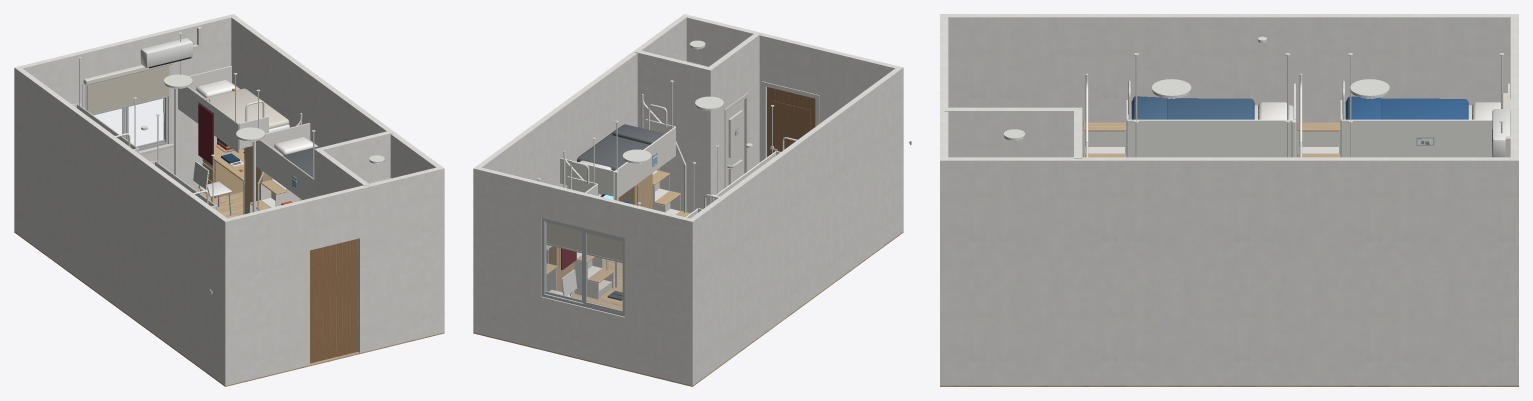
The picture shows the model from 3 angles, left to right: view 1: azimuth 30°, elevation 25°; view 2: azimuth 150°, elevation 25°; view 3: azimuth 270°, elevation 25°; orthographic projection. The views are drawn at different scales.
Visible parts, largest first — view 1: WALL_left_wall, WALL_front_wall, WALL_right_wall, WALL_back_wall, WALL_front_door, LOFT_R1_frame, WALL_back_blind, WALL_bath_n_wall, dorm_wood, LOFT_R2_frame, WALL_back_glass, BEDDING_R1_duvet (+14 smaller); view 2: WALL_left_wall, WALL_back_wall, WALL_right_wall, WALL_front_wall, WALL_bath_n_wall, WALL_back_glass, WALL_bath_w_wall, LOFT_R2_frame, WALL_front_door, dorm_frame_white, WALL_back_alu, dorm_wood (+9 smaller); view 3: WALL_right_wall, WALL_left_wall, LOFT_L2_frame, WALL_bath_w_wall, LOFT_L1_frame, BEDDING_L2_duvet, BEDDING_L1_duvet, dorm_frame_white, dorm_fixtures, WALL_back_wall, WALL_front_wall, dorm_wood (+3 smaller).
Part boxes in pixels (x1,y1,x2,y2): WALL_left_wall: (14,66,230,385); WALL_front_wall: (228,167,439,384); WALL_right_wall: (229,14,444,333); WALL_back_wall: (20,15,231,189); WALL_front_door: (310,239,358,363); LOFT_R1_frame: (178,66,302,153); WALL_back_blind: (87,65,169,113); WALL_bath_n_wall: (314,130,392,197); dorm_wood: (202,144,300,214); LOFT_R2_frame: (256,123,314,199); WALL_back_glass: (95,99,164,145); BEDDING_R1_duvet: (204,88,289,129); WALL_left_wall: (687,66,903,385); WALL_back_wall: (478,167,689,384); WALL_right_wall: (473,14,688,333); WALL_front_wall: (686,15,897,162); WALL_bath_n_wall: (635,50,713,213); WALL_back_glass: (546,223,621,309); WALL_bath_w_wall: (709,32,760,194); LOFT_R2_frame: (560,94,675,199); WALL_front_door: (767,87,815,156); dorm_frame_white: (546,127,714,299); WALL_back_alu: (541,218,624,316); dorm_wood: (546,170,690,292); WALL_right_wall: (940,157,1518,385); WALL_left_wall: (940,14,1518,157); LOFT_L2_frame: (1085,74,1295,157); WALL_bath_w_wall: (944,107,1073,157); LOFT_L1_frame: (1299,74,1509,157); BEDDING_L2_duvet: (1131,96,1254,119); BEDDING_L1_duvet: (1345,96,1468,119); dorm_frame_white: (1083,120,1340,157); dorm_fixtures: (1003,36,1389,140); WALL_back_wall: (1510,17,1518,157); WALL_front_wall: (940,17,948,157); dorm_wood: (1083,122,1340,157).
Bounding box in the file's own units: 4.41 × 3.03 × 7.
Materials: 42 (9 with a texture image).
